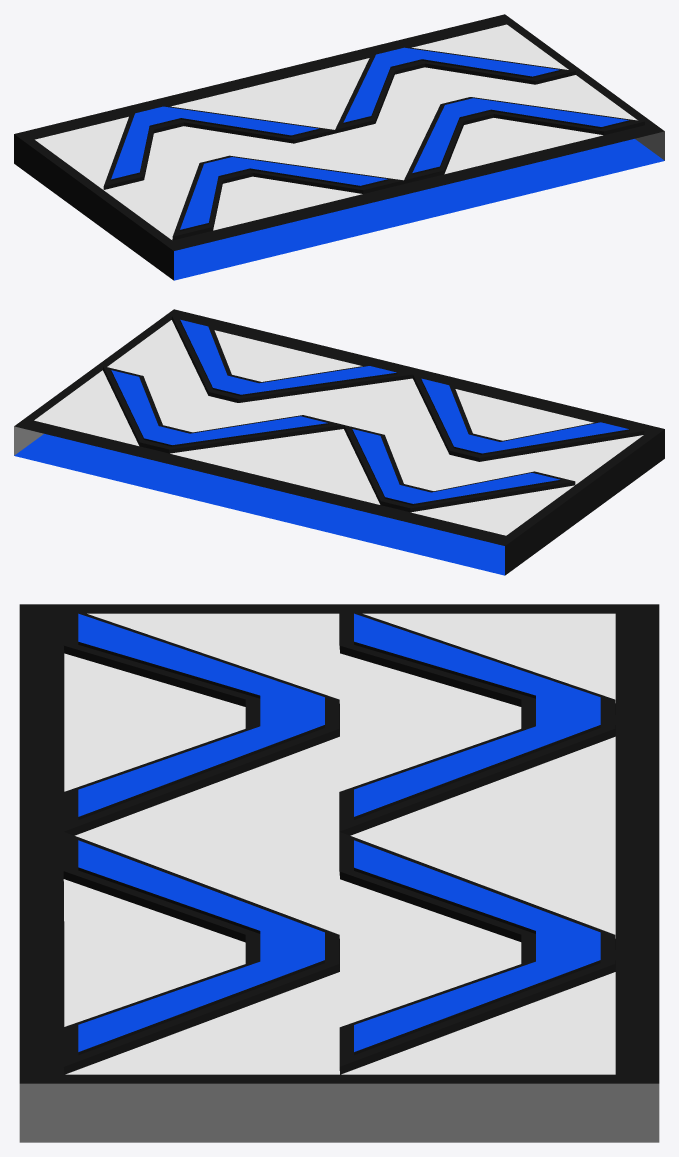
The model's file is boost1.FBX.
The picture shows the model from 3 angles, top to bottom: view 1: azimuth 30°, elevation 25°; view 2: azimuth 150°, elevation 25°; view 3: azimuth 270°, elevation 25°; orthographic projection. The views are drawn at different scales.
Parts seen in each view (by area): view 1: Box048; view 2: Box048; view 3: Box048.
Boxes of the visible parts, x1,y1,x2,y2 form: Box048: [14, 14, 664, 280]; Box048: [14, 309, 664, 575]; Box048: [19, 604, 659, 1142].
Size of the model in its own units: 32.88 by 2.24 by 18.55.
